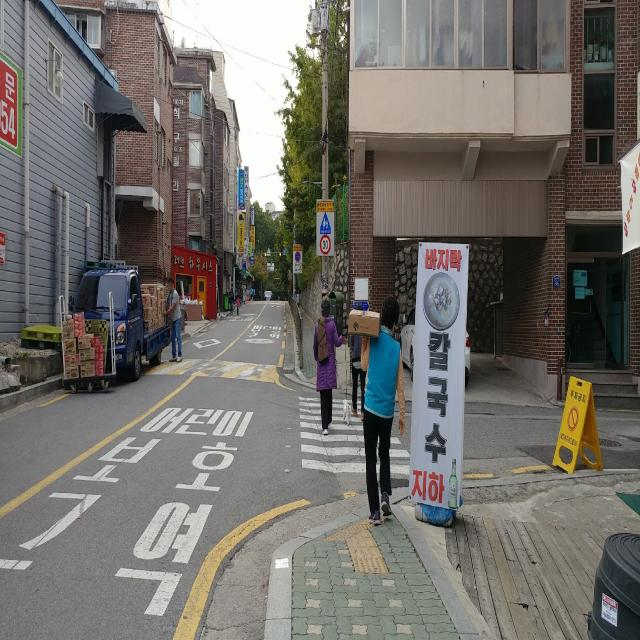횡단보도: (298, 396, 410, 474)
